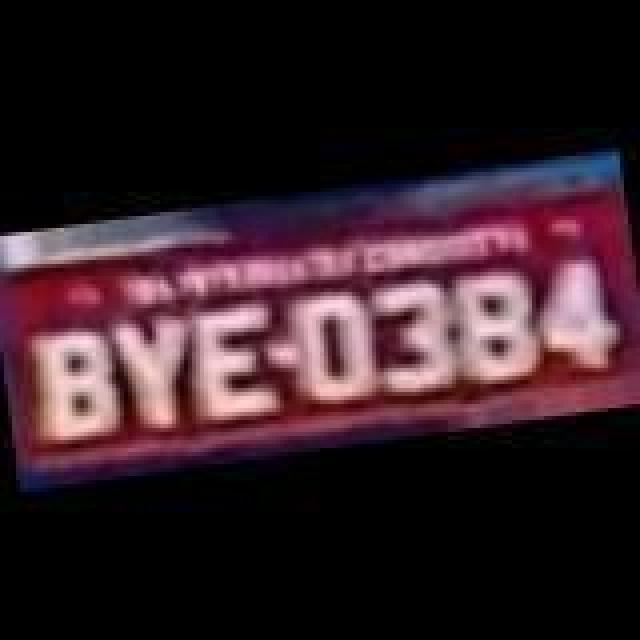3: (366, 274, 466, 398)
4: (536, 248, 632, 376)
8: (448, 264, 544, 392)
B: (26, 320, 126, 448)
E: (192, 298, 288, 422)
O: (290, 292, 382, 412)
Y: (106, 308, 206, 436)
